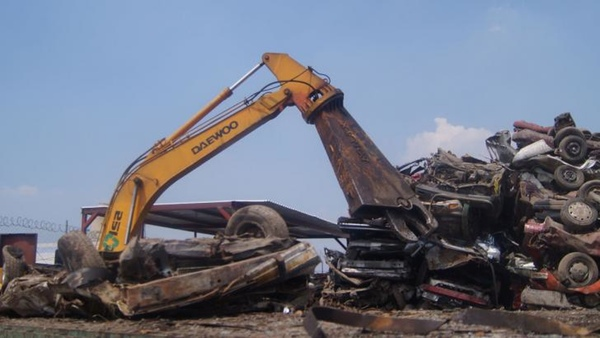llanta: (223, 213, 297, 243), (54, 228, 97, 267), (559, 251, 594, 286), (555, 127, 588, 161), (566, 195, 592, 231), (556, 165, 584, 188), (581, 175, 598, 203)
